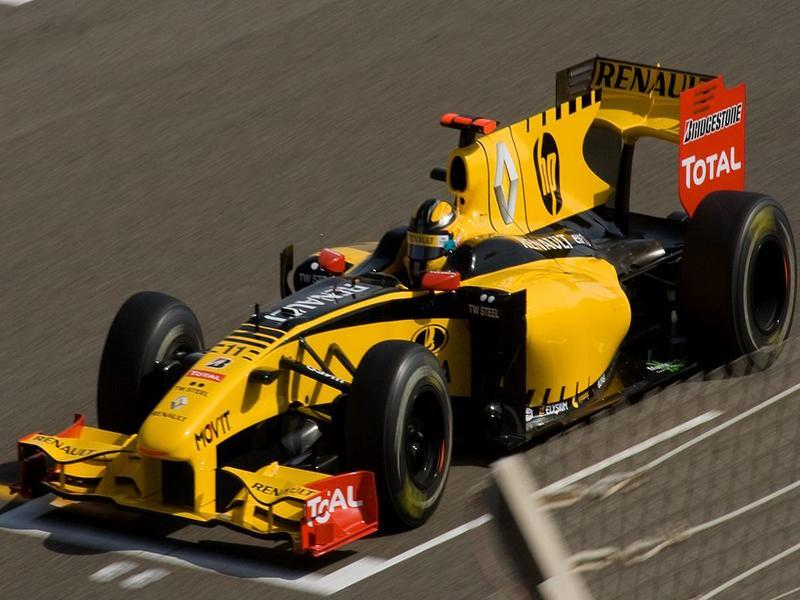f1: (29, 58, 800, 557)
